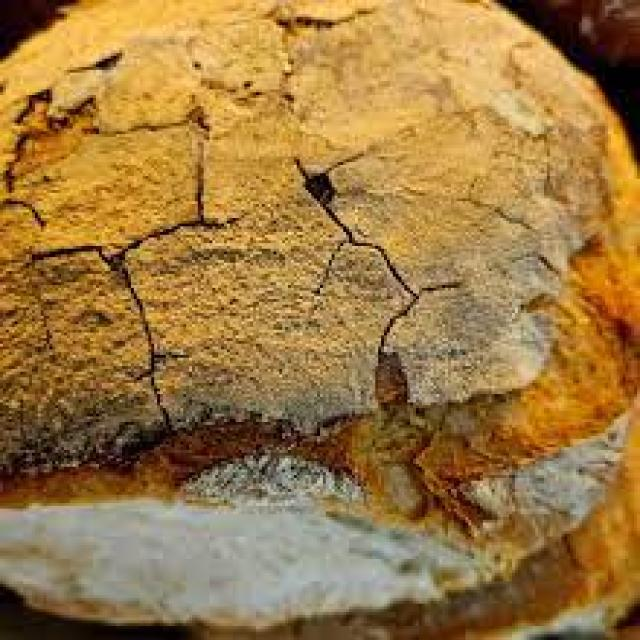Maltese-Bread: (0, 0, 637, 620)
